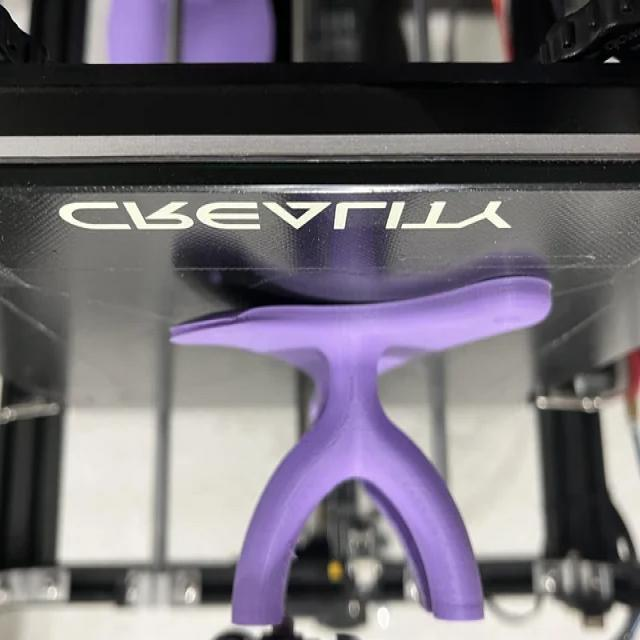Warping: (198, 296, 310, 324)
